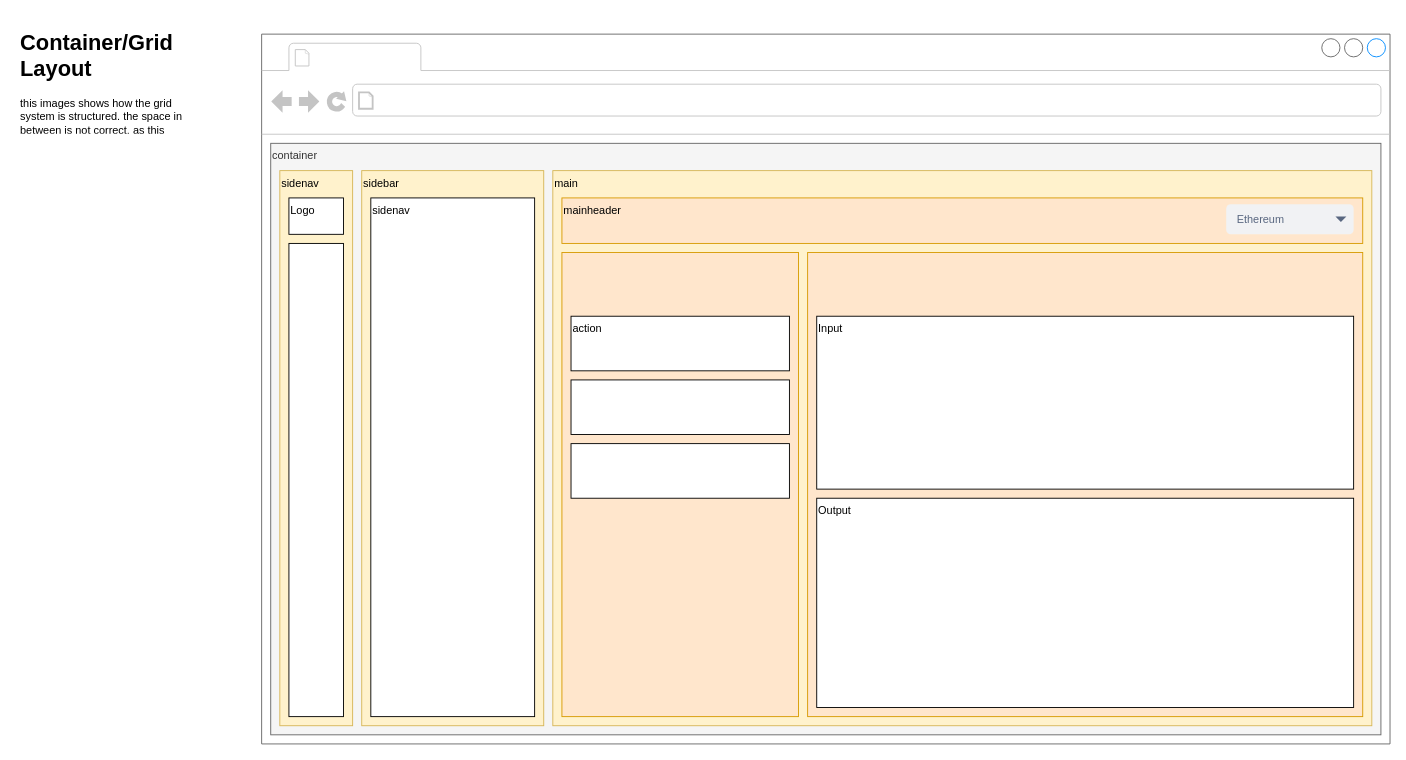
This 1406x760 diagram has some shape labels left out. The box of each missing label's shape, as (x1, y1, x2, y2) in pixels:
actions-inuse: (561, 252, 799, 717)
https://web3toolkit.dev: (379, 88, 607, 112)
input/output: (807, 252, 1363, 717)
nav: (288, 243, 344, 717)
Page 1: (315, 44, 416, 69)
